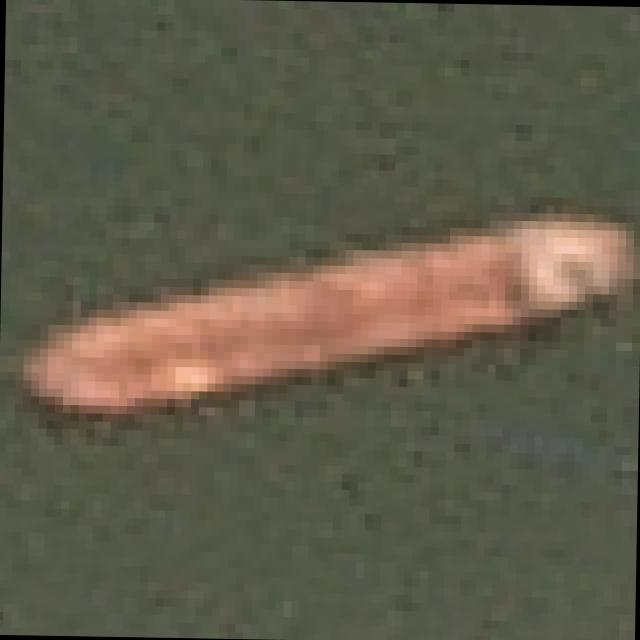ship: (0, 151, 640, 464)
